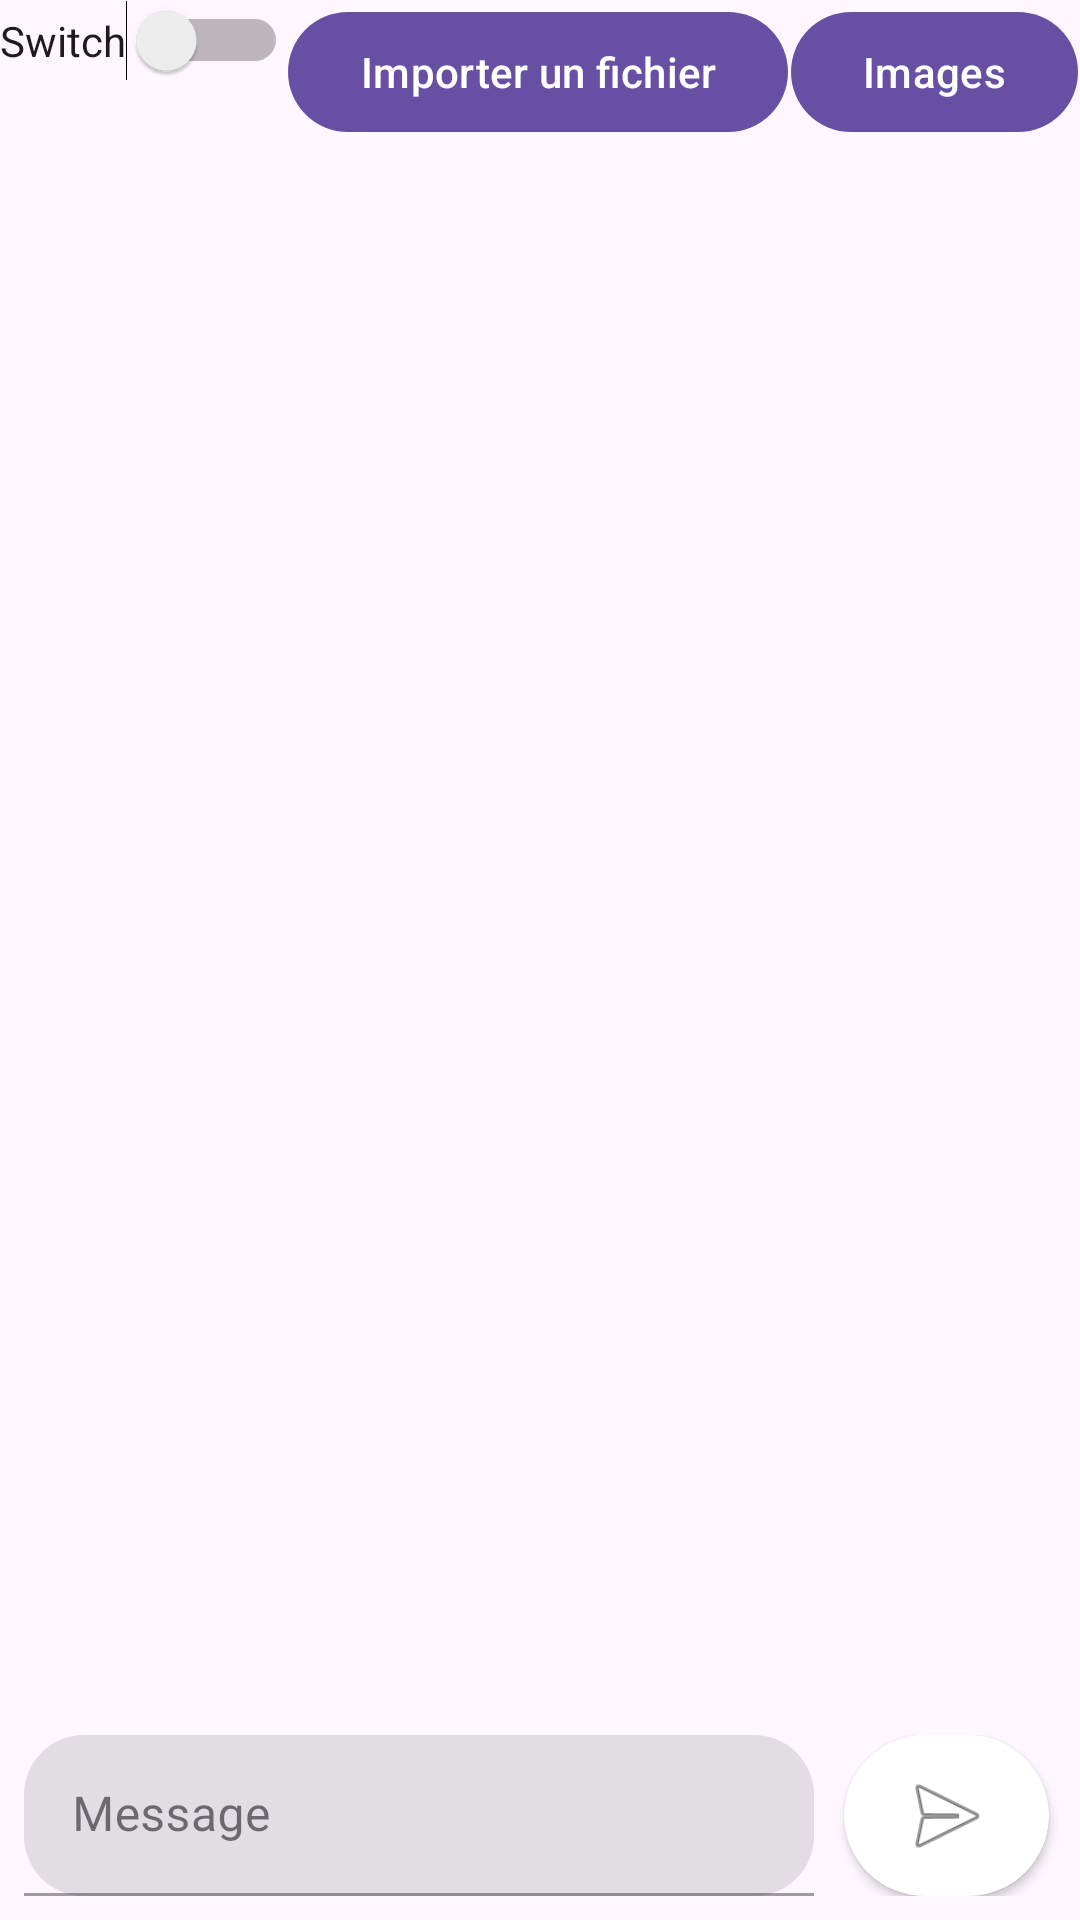

Screen size 1080×1920. Icon name, then its box in pixels as region(x1, y1, x2, y2):
send: region(915, 1784, 980, 1848)
